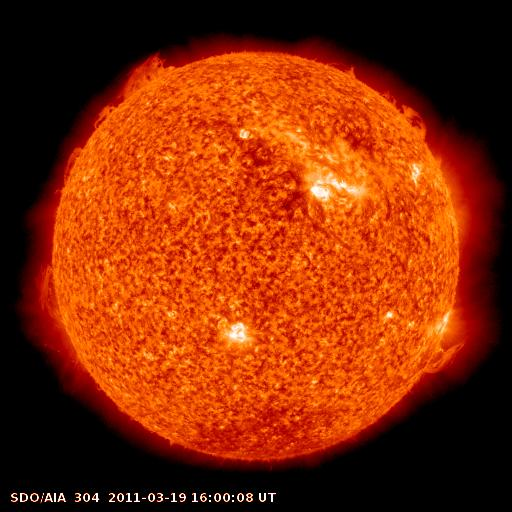prominence: (123, 43, 192, 102), (374, 84, 440, 144), (27, 259, 77, 333), (409, 335, 483, 379), (52, 141, 88, 197), (308, 47, 362, 83), (87, 102, 118, 131)
